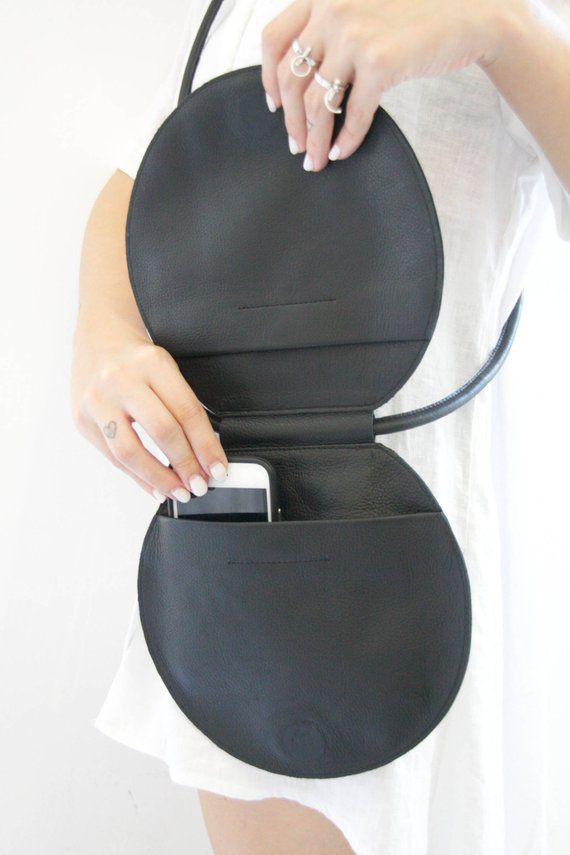cuero: (127, 65, 471, 780)
